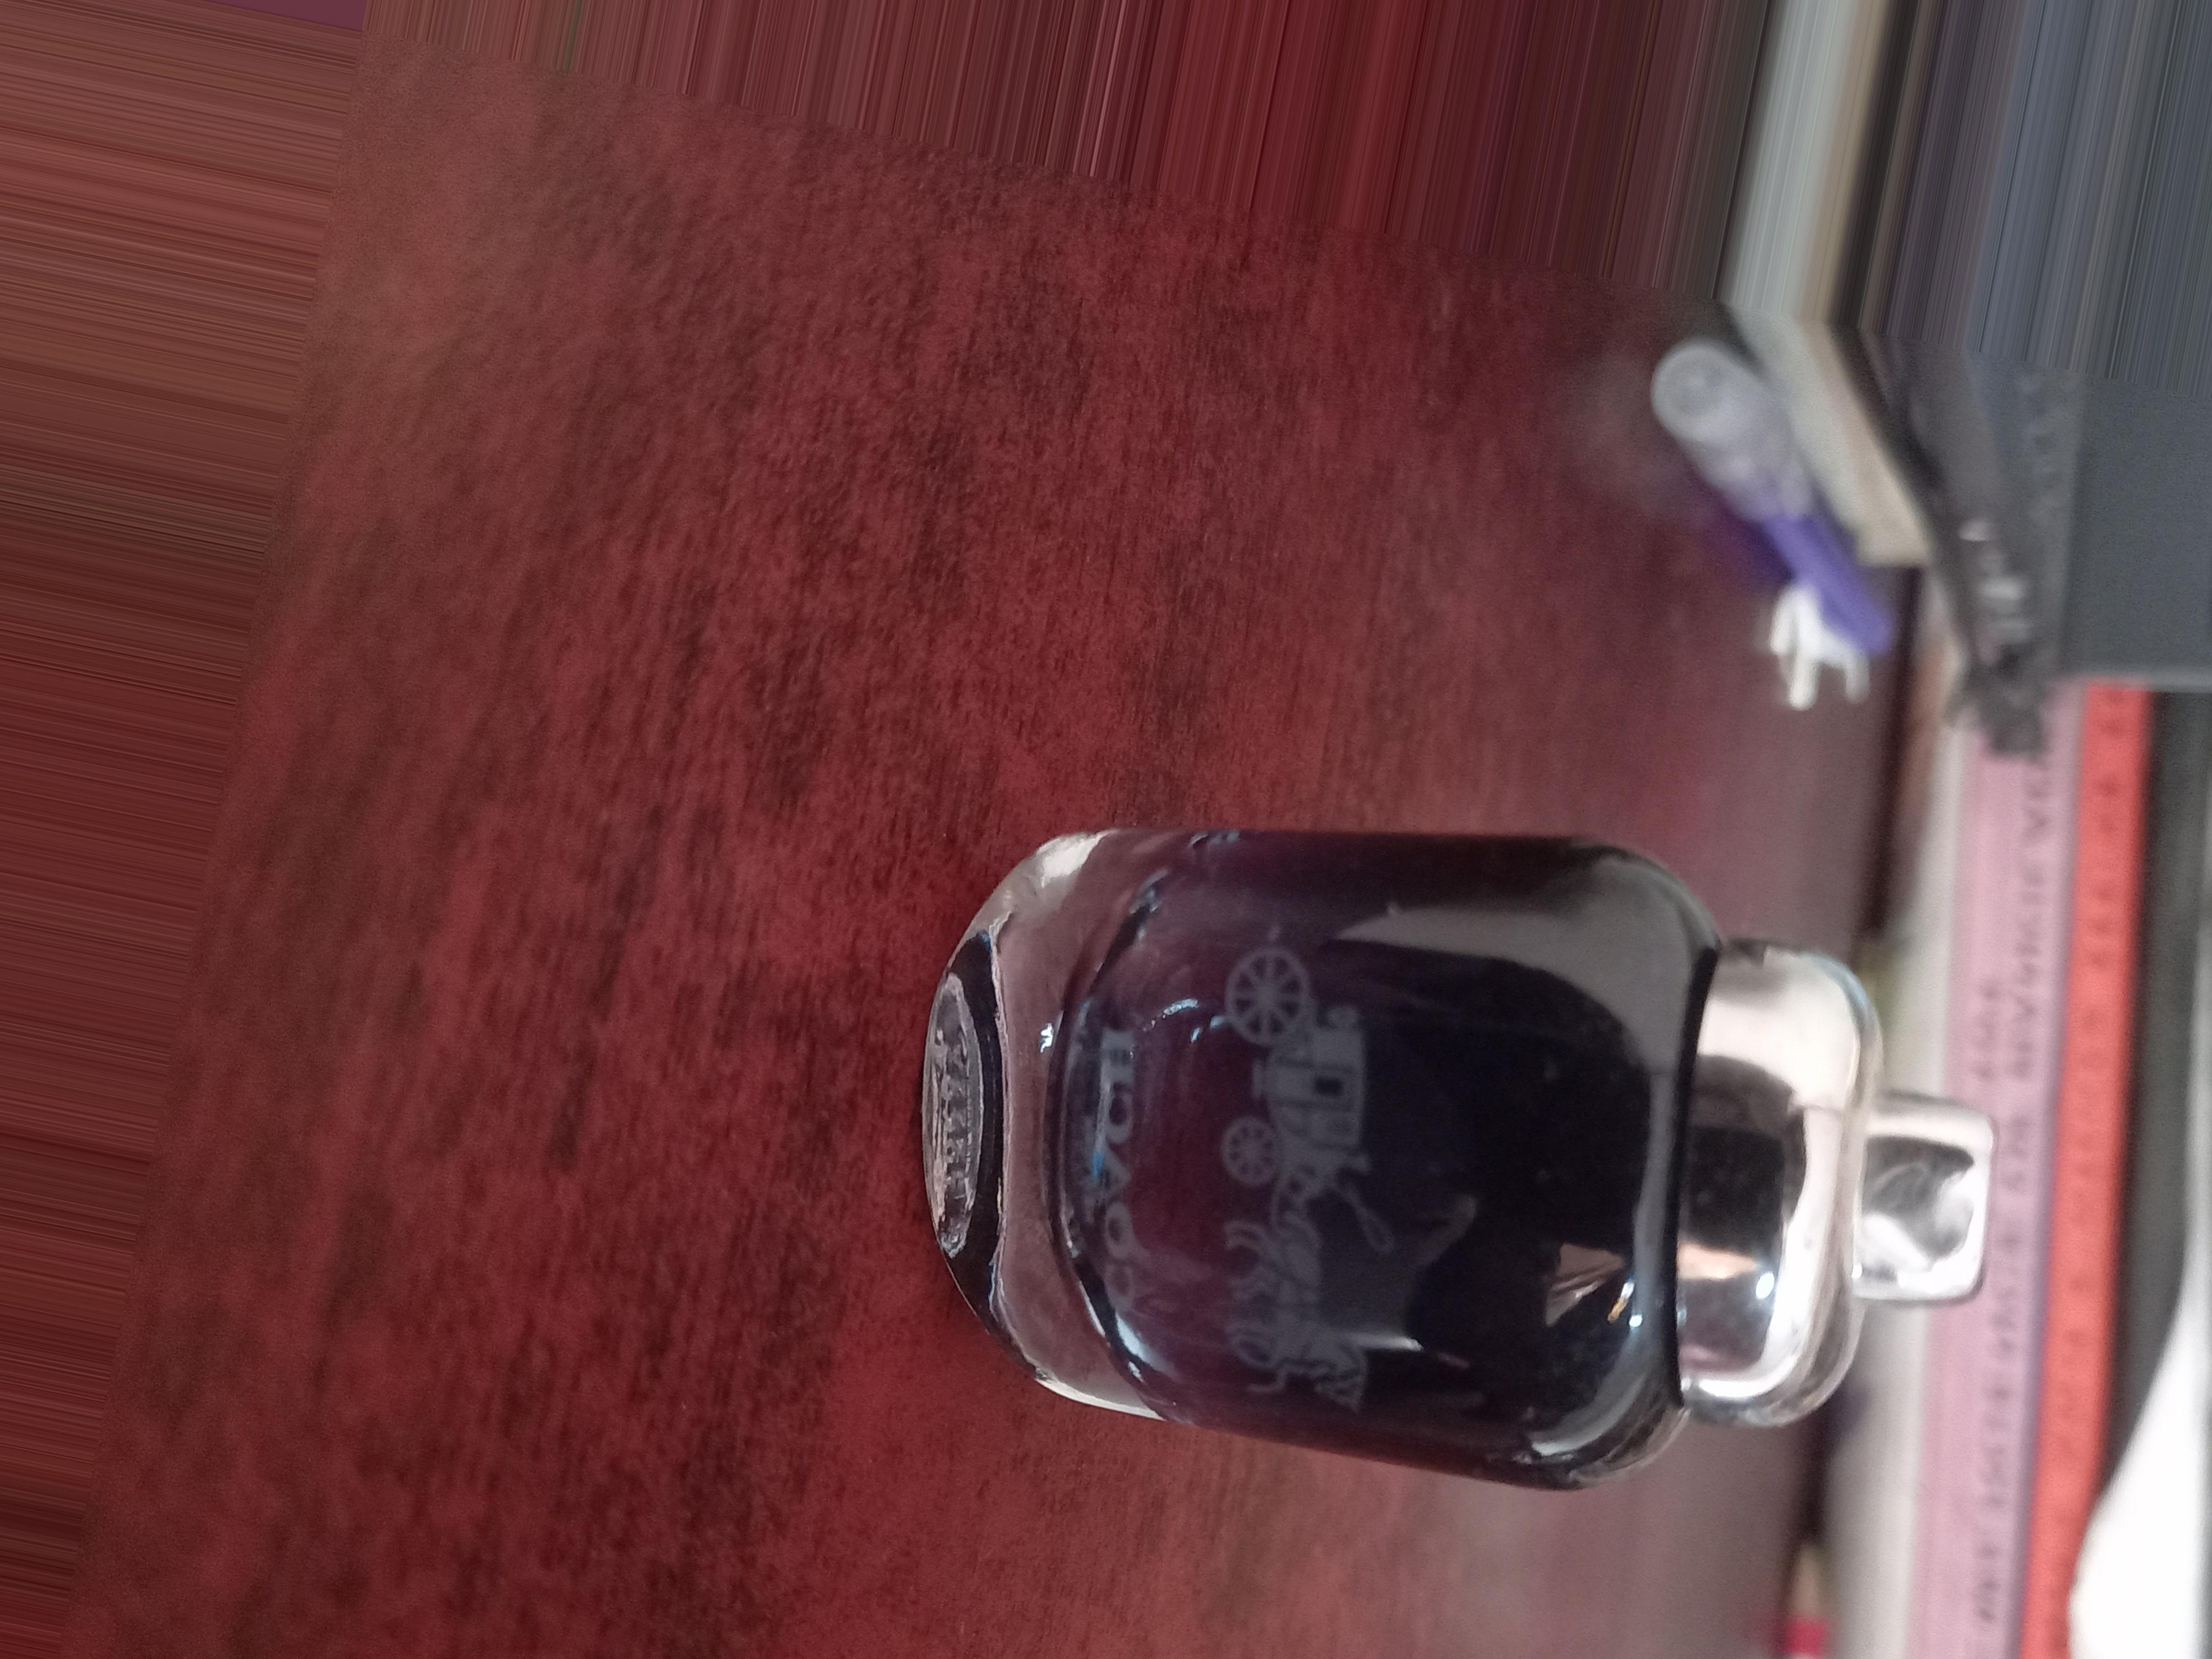perfume: (853, 751, 2212, 1575)
